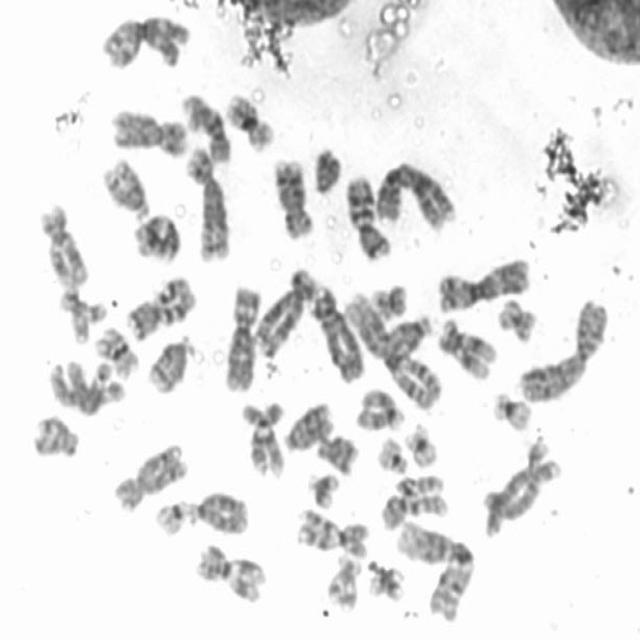A1: (343, 290, 442, 410), (394, 519, 476, 627)
A2: (519, 299, 610, 405), (374, 160, 458, 233)
A3: (98, 14, 193, 74), (436, 256, 531, 314)
B4: (480, 435, 564, 542), (309, 285, 366, 386)
B5: (253, 267, 318, 363), (182, 143, 232, 260)
C10: (381, 476, 452, 534), (180, 89, 232, 163)
C11: (195, 543, 270, 611), (130, 215, 184, 263)
C12: (36, 201, 92, 290), (437, 318, 499, 383)
C6: (45, 358, 128, 418), (223, 282, 261, 392)
C7: (126, 272, 196, 344), (341, 172, 393, 260)
C8: (114, 441, 188, 513), (273, 158, 315, 243)
C9: (297, 504, 371, 558), (238, 399, 286, 478)
D13: (188, 486, 252, 537), (283, 398, 334, 456)
D14: (143, 331, 199, 393), (100, 159, 152, 221)
D15: (376, 313, 436, 373), (354, 387, 404, 434)
E16: (226, 90, 278, 156), (95, 323, 140, 382)
E17: (59, 284, 108, 345), (327, 551, 364, 616)
E18: (30, 414, 84, 463), (315, 431, 361, 477)
F19: (489, 391, 536, 435), (404, 422, 438, 470)
F20: (495, 293, 539, 346), (370, 284, 410, 324)
G21: (365, 557, 406, 603), (306, 472, 342, 510)
G22: (151, 498, 192, 538), (376, 435, 408, 473)
X: (111, 108, 188, 159)
Y: (310, 145, 342, 197)
